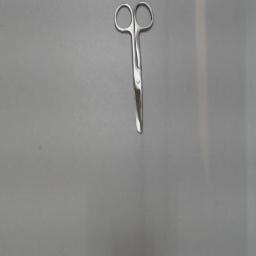Dressing Scissors: (110, 0, 158, 140)
